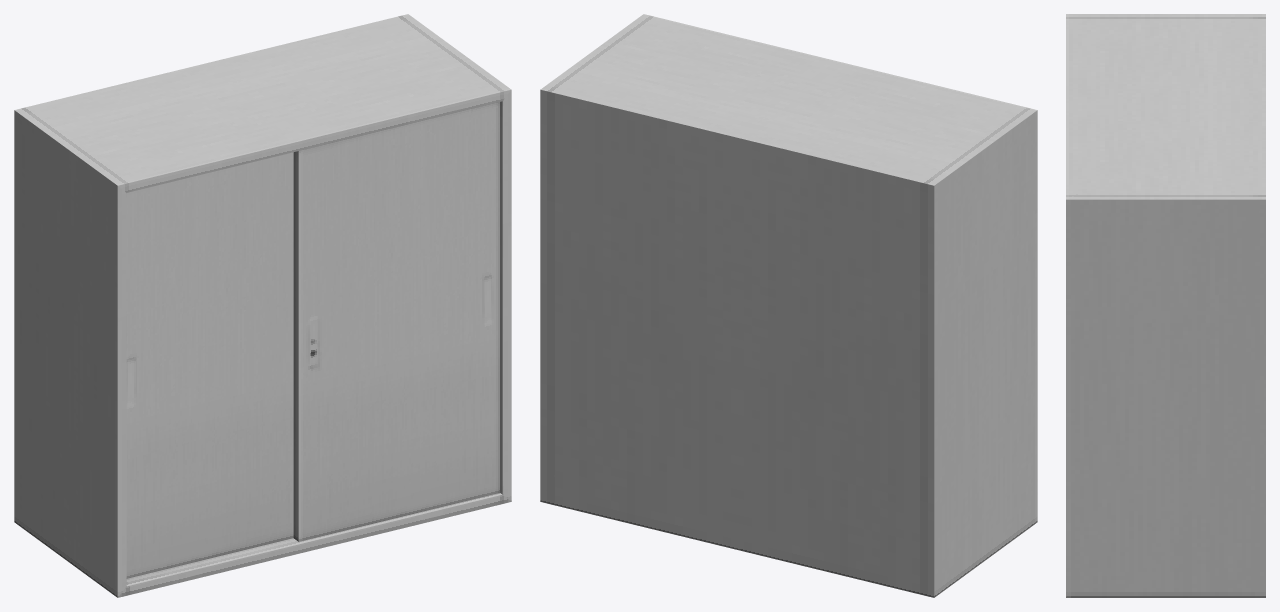
File: CabinetSimple.glb
3 renders of one model, left to right at view 1: azimuth 30°, elevation 25°; view 2: azimuth 150°, elevation 25°; view 3: azimuth 270°, elevation 25°, orthographic. The views are drawn at different scales.
Visible parts, largest first — view 1: cabinet-simple; view 2: cabinet-simple; view 3: cabinet-simple.
Part boxes in pixels (x1,y1,x2,y2): cabinet-simple: [14, 14, 511, 597]; cabinet-simple: [540, 14, 1037, 597]; cabinet-simple: [1066, 14, 1265, 597].
Size of the model in its own units: 0.88 by 0.88 by 0.4.
1 material, 1 textured.
